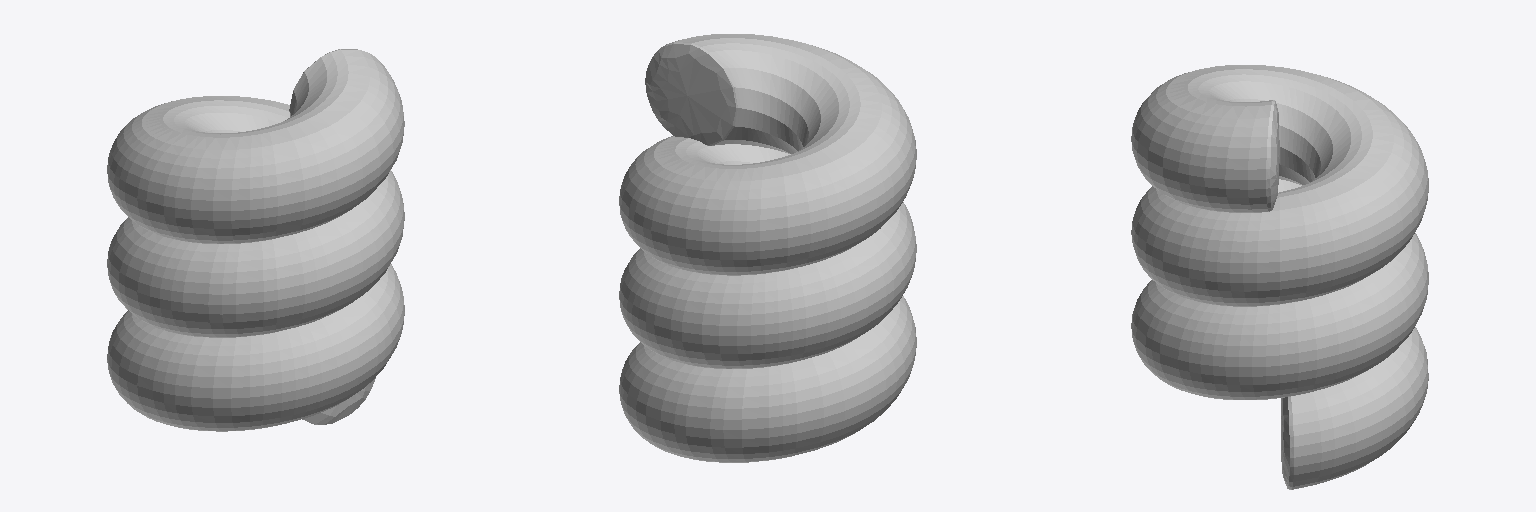
The model's file is helix_80.0.obj.
3 renders of one model, left to right at view 1: azimuth 30°, elevation 25°; view 2: azimuth 150°, elevation 25°; view 3: azimuth 270°, elevation 25°, orthographic.
Parts seen in each view (by area): view 1: helix:pHelix1; view 2: helix:pHelix1; view 3: helix:pHelix1.
Boxes of the visible parts, x1,y1,x2,y2 form: helix:pHelix1: [107, 49, 404, 431]; helix:pHelix1: [619, 34, 916, 462]; helix:pHelix1: [1131, 65, 1428, 489].
Bounding box in the file's own units: 1.92 × 2.71 × 1.92.